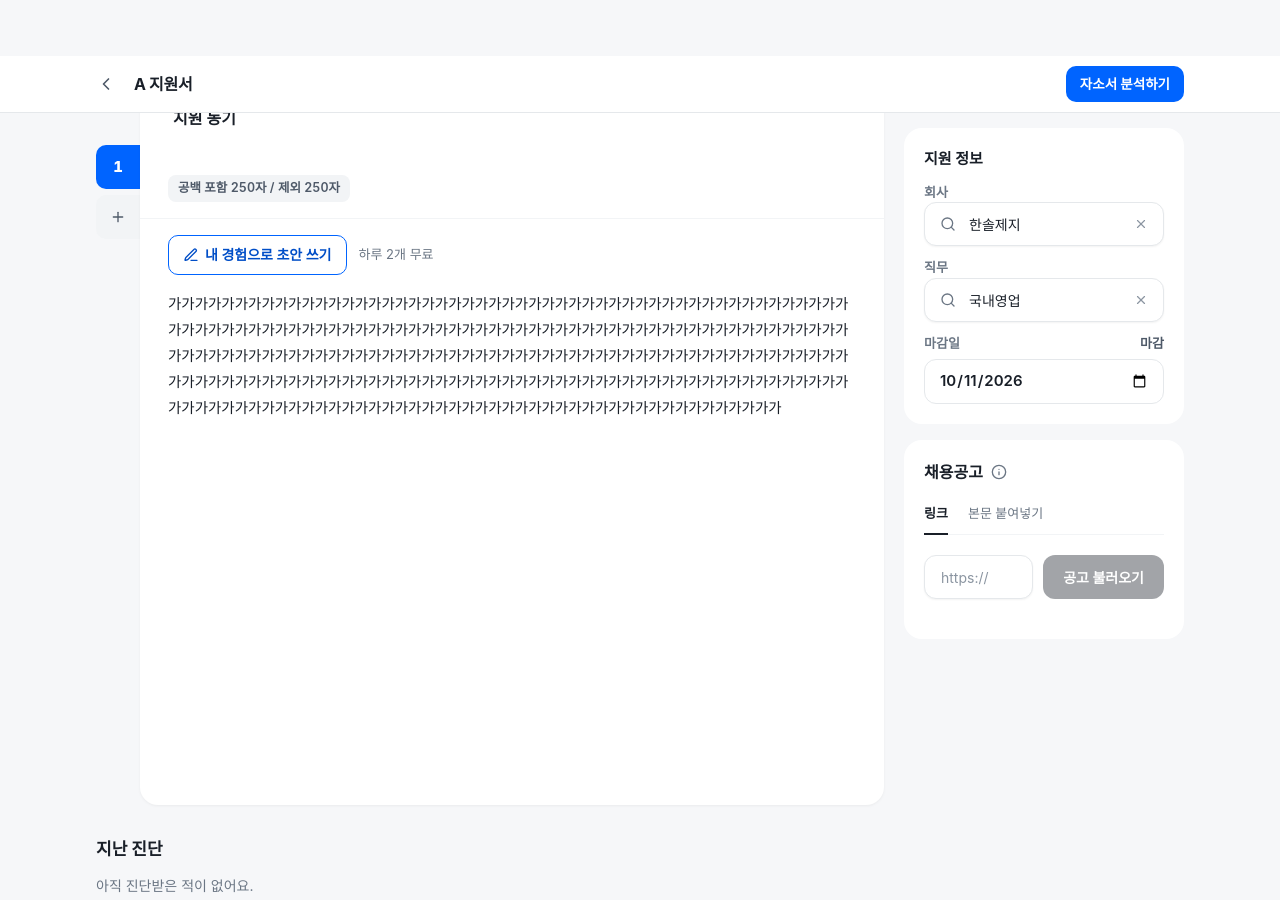
it: 내 경험으로 초안 쓰기 › 한도 초과는 안내만 하고 답을 바꾸지 않는다
The image size is (1280, 900).
Click the button "내 경험으로 초안 쓰기" at (257, 255), box [168,235,346,275]
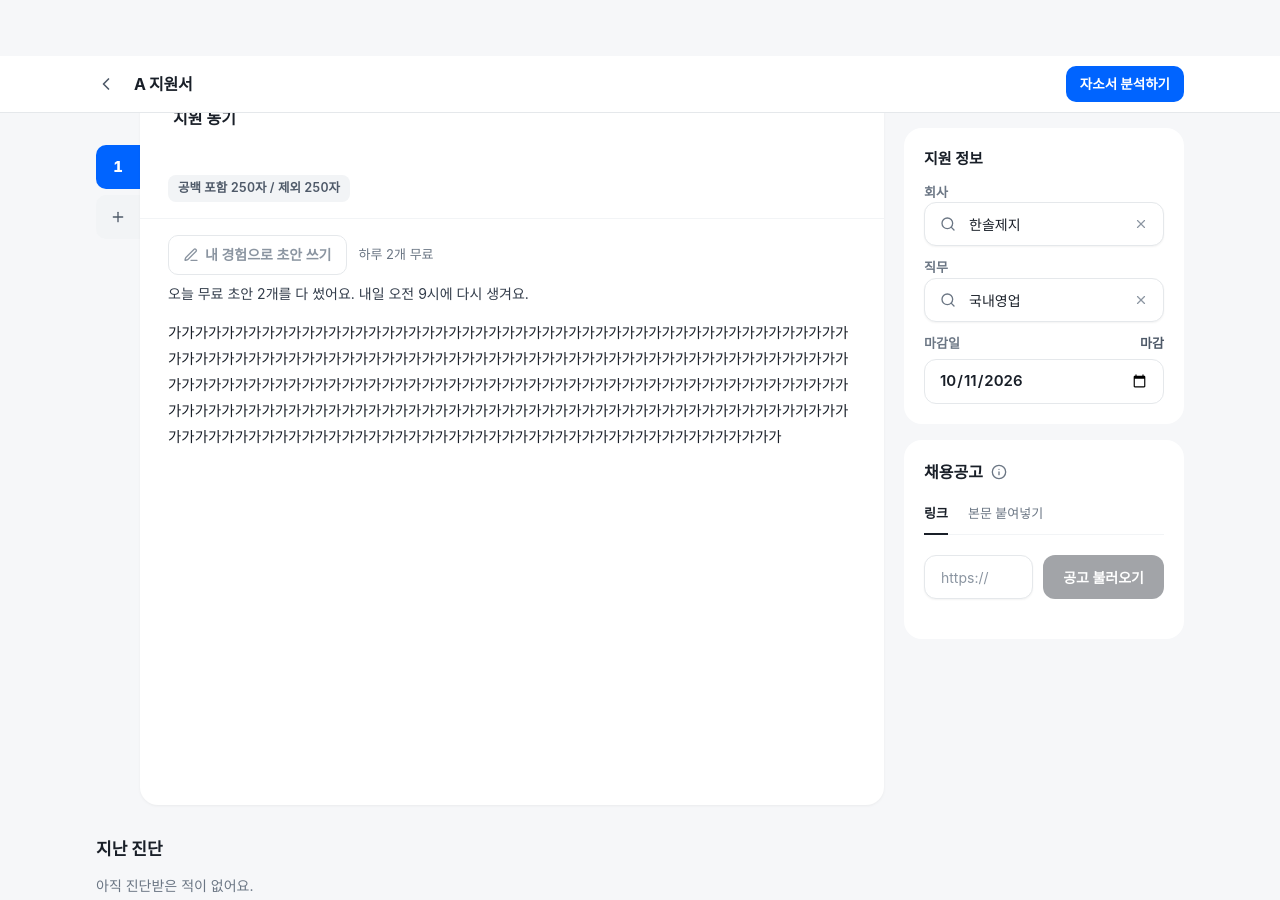
Expected: the text "오늘 무료 초안 2개를 다 썼어요. 내일 오전 9시에 다시 생겨요." is shown, [168,285,529,302]
